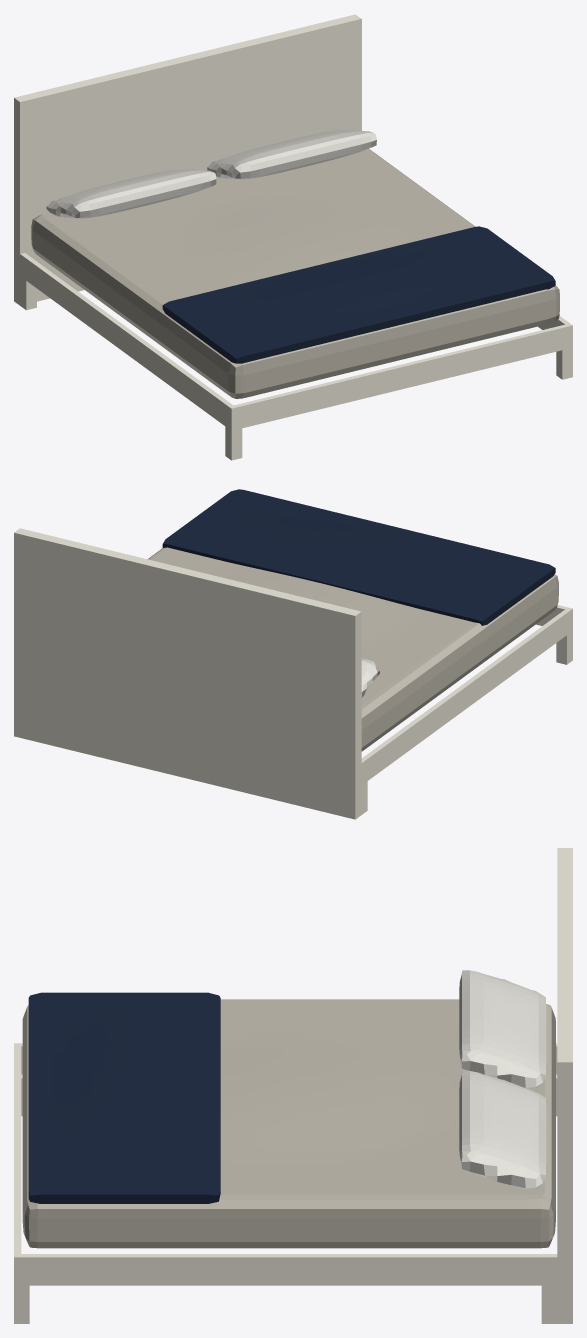
File: LIT-BED-king.glb
The picture shows the model from 3 angles, top to bottom: view 1: azimuth 30°, elevation 25°; view 2: azimuth 150°, elevation 25°; view 3: azimuth 270°, elevation 25°; orthographic projection. The views are drawn at different scales.
Parts seen in each view (by area): view 1: mattress:pbr, head:pbr, throw:pbr, foot:pbr, rail-l:pbr, pillow-l:pbr, pillow-r:pbr; view 2: head:pbr, throw:pbr, mattress:pbr, rail-l:pbr, pillow-l:pbr, leg-fl:pbr; view 3: mattress:pbr, throw:pbr, rail-r:pbr, pillow-r:pbr, pillow-l:pbr, head:pbr, foot:pbr, leg-hr:pbr, leg-fr:pbr.
Part boxes in pixels (x1=…): mattress:pbr: x1=31, y1=148, x2=559, y2=398; head:pbr: x1=14, y1=14, x2=361, y2=305; throw:pbr: x1=162, y1=226, x2=555, y2=363; foot:pbr: x1=234, y1=324, x2=567, y2=429; rail-l:pbr: x1=20, y1=253, x2=236, y2=430; pillow-l:pbr: x1=46, y1=169, x2=216, y2=218; pillow-r:pbr: x1=207, y1=130, x2=376, y2=179; head:pbr: x1=14, y1=528, x2=361, y2=819; throw:pbr: x1=162, y1=489, x2=555, y2=625; mattress:pbr: x1=148, y1=547, x2=558, y2=751; rail-l:pbr: x1=361, y1=607, x2=572, y2=784; pillow-l:pbr: x1=361, y1=658, x2=379, y2=697; leg-fl:pbr: x1=556, y1=631, x2=572, y2=664; mattress:pbr: x1=22, y1=999, x2=555, y2=1248; throw:pbr: x1=28, y1=992, x2=220, y2=1203; rail-r:pbr: x1=14, y1=1254, x2=557, y2=1285; pillow-r:pbr: x1=459, y1=1071, x2=546, y2=1191; pillow-l:pbr: x1=459, y1=970, x2=546, y2=1090; head:pbr: x1=557, y1=848, x2=572, y2=1323; foot:pbr: x1=14, y1=1046, x2=21, y2=1253; leg-hr:pbr: x1=541, y1=1285, x2=557, y2=1323; leg-fr:pbr: x1=14, y1=1285, x2=29, y2=1323.
Bounding box in the file's own units: 1.93 × 1.1 × 2.13.
